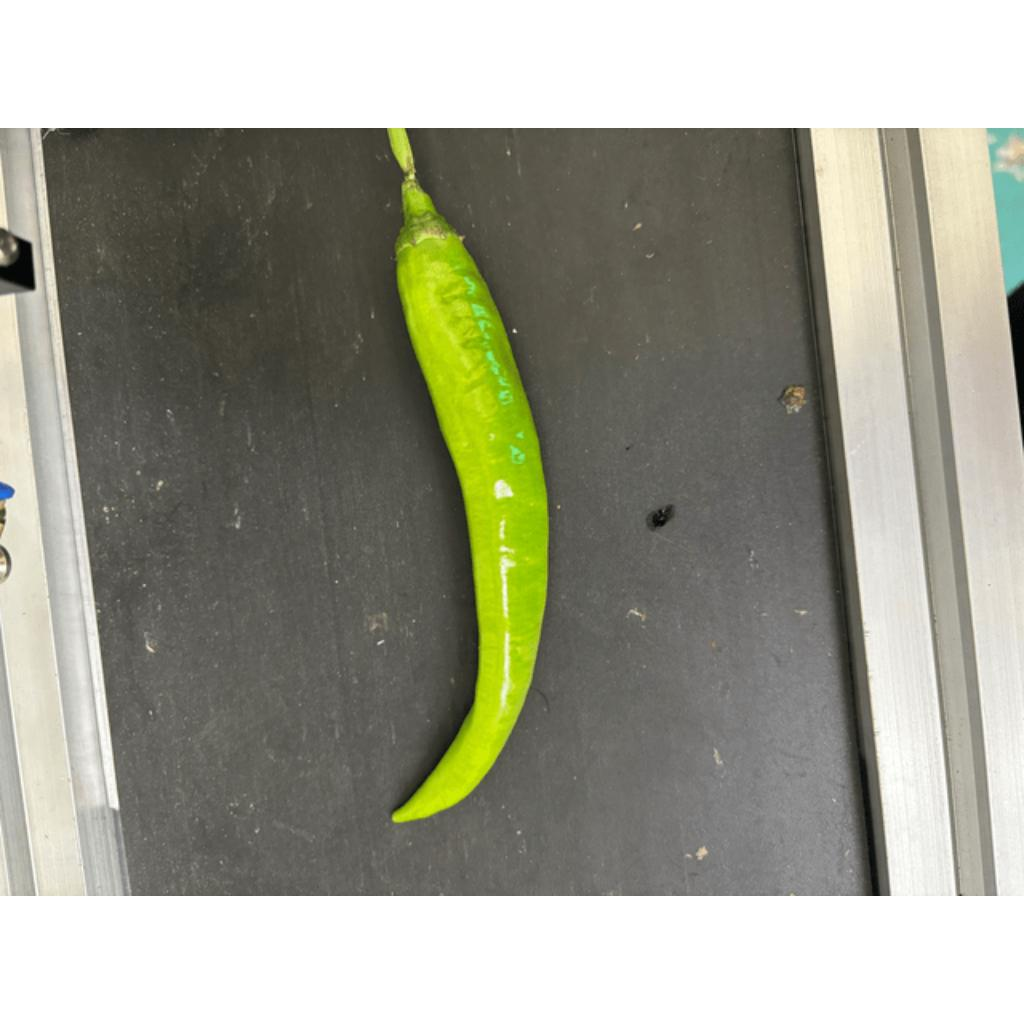chili: (388, 215, 551, 823)
